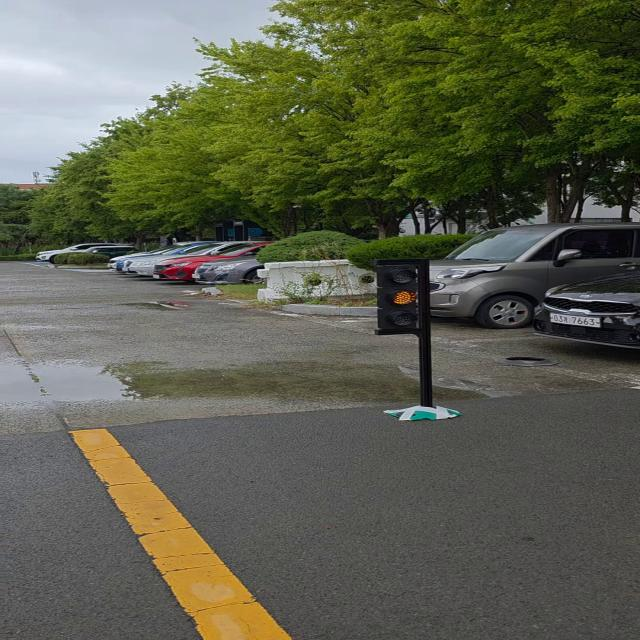yellow: (379, 260, 430, 333)
